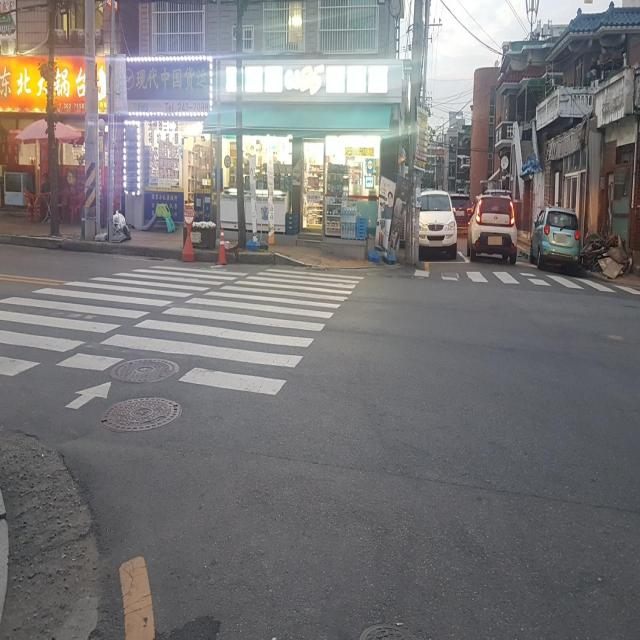횡단보도: (0, 261, 366, 413), (422, 261, 640, 300)
